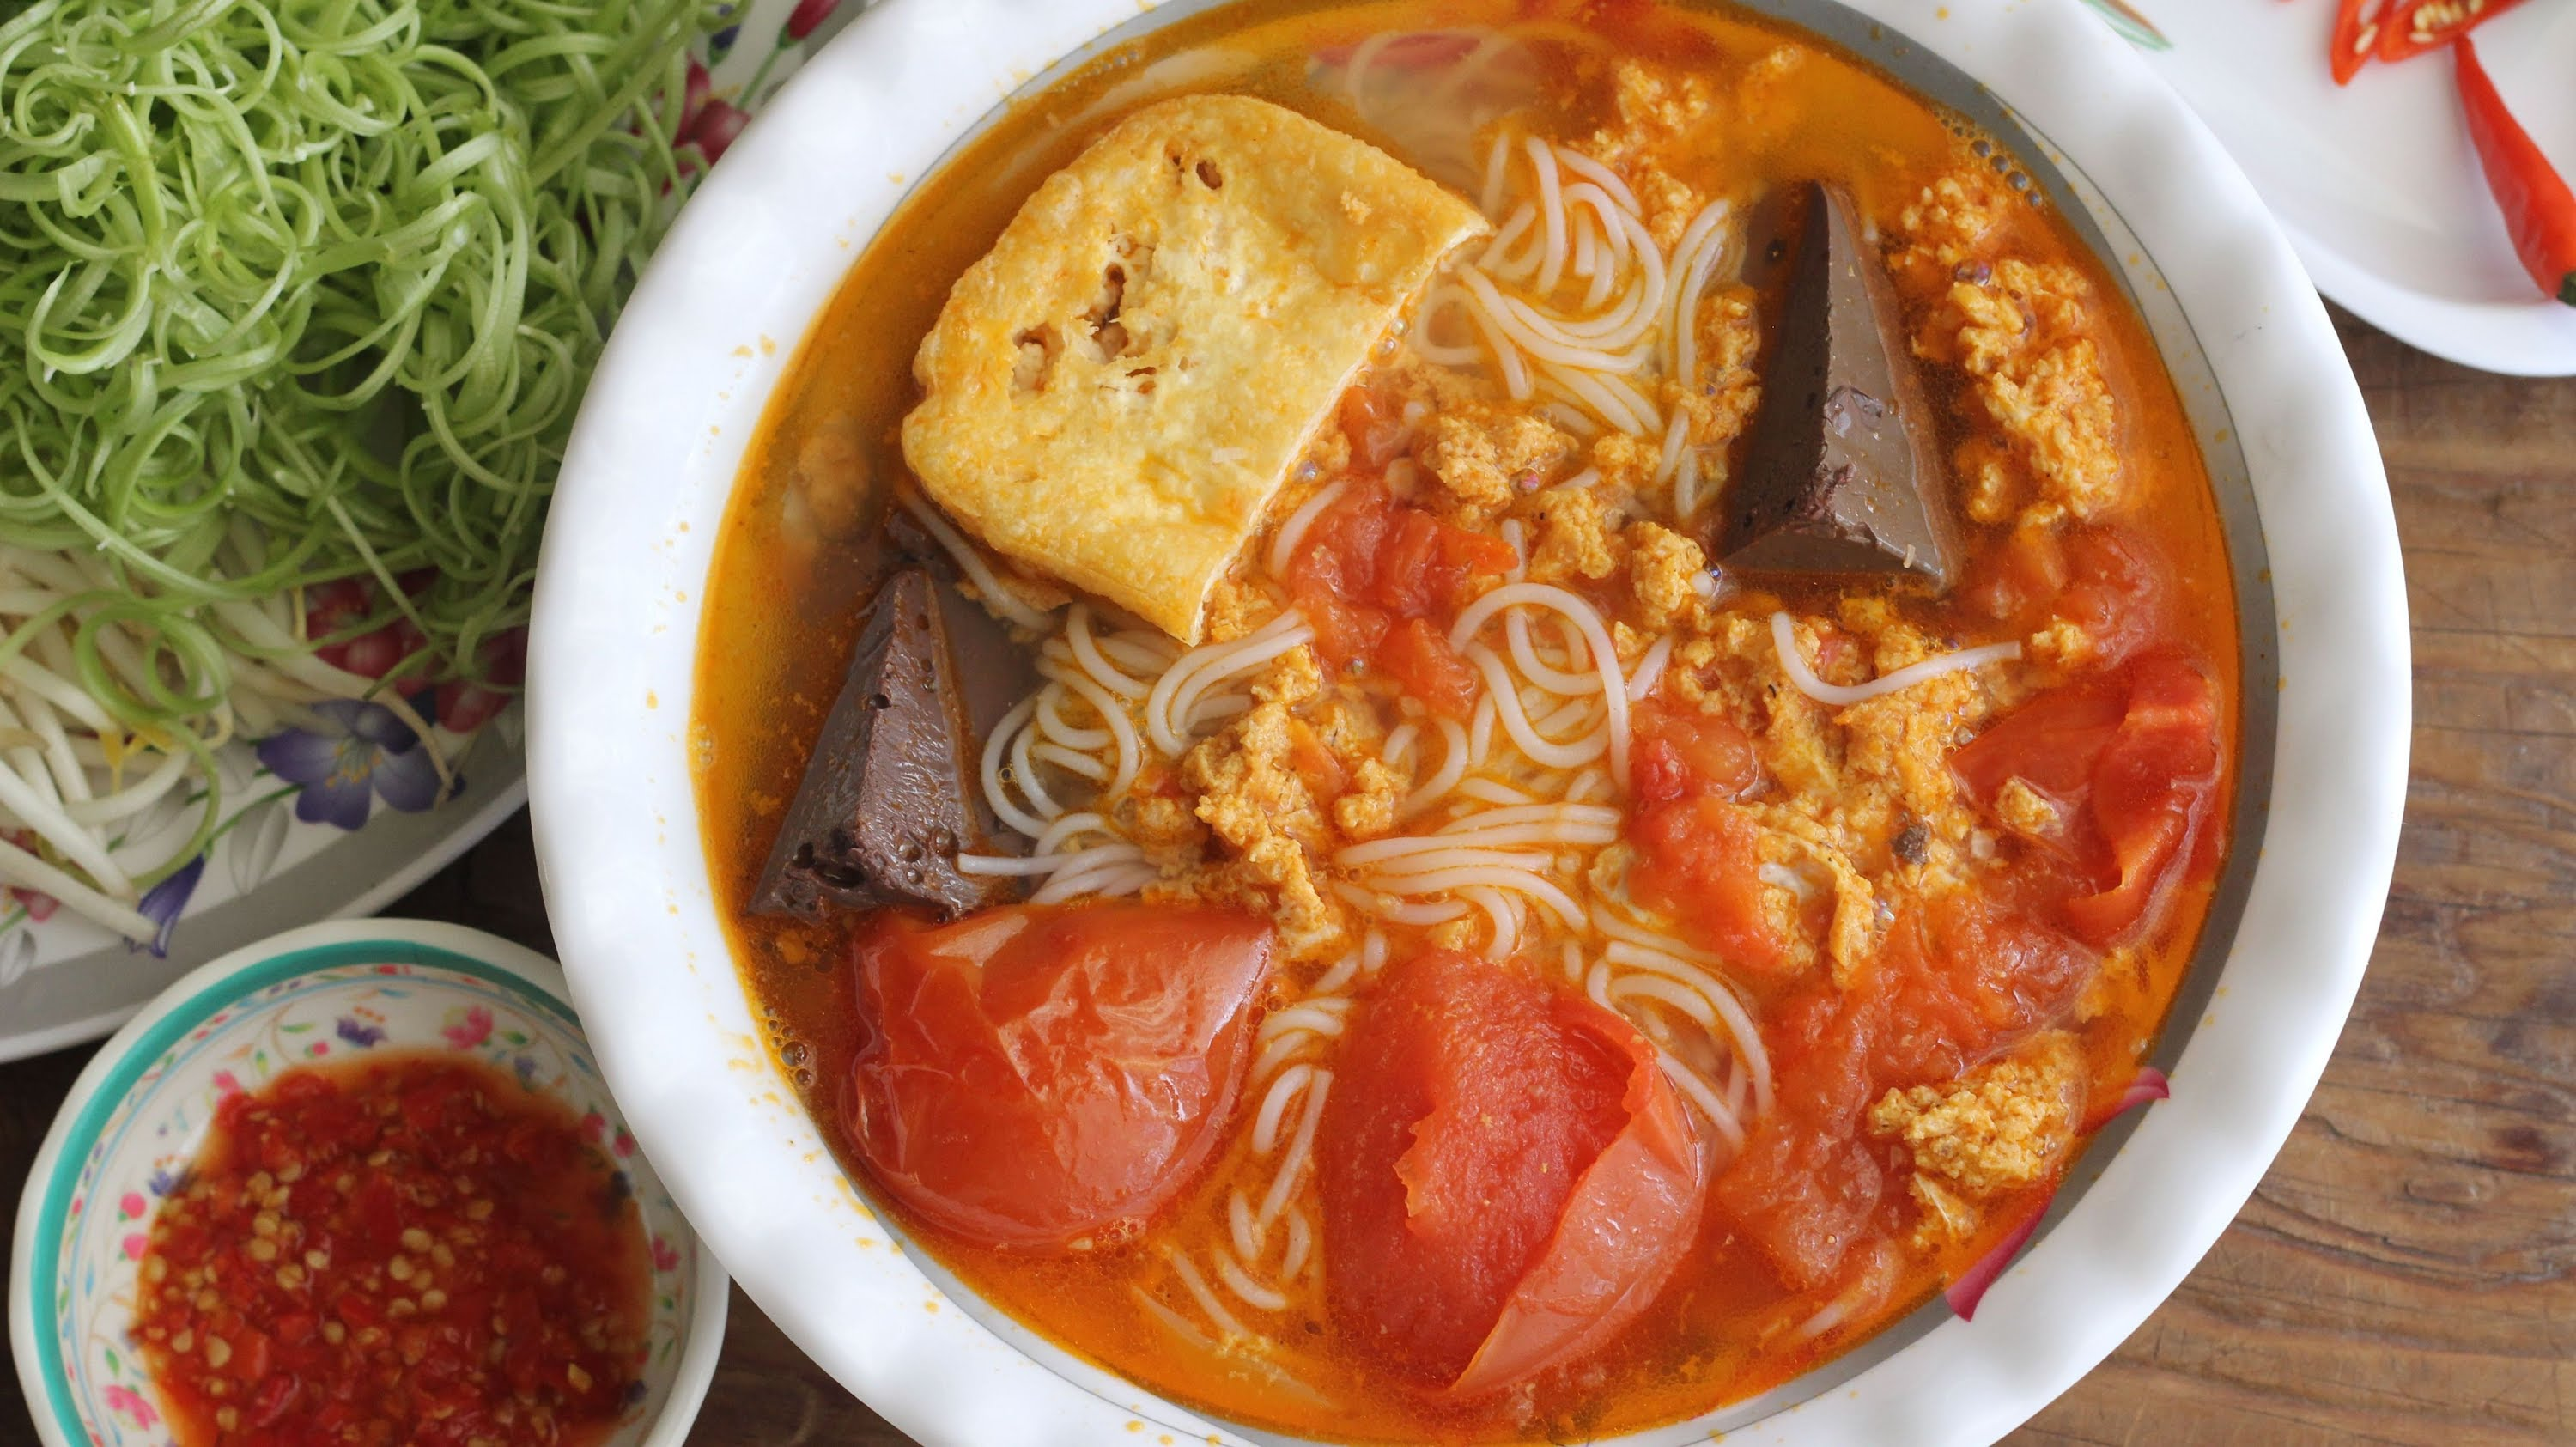rieu: (1925, 203, 2143, 504), (1447, 389, 1713, 614), (1154, 672, 1376, 920), (1776, 672, 1944, 890)
tofu: (915, 140, 1490, 575)
tomato: (1334, 957, 1695, 1397), (856, 906, 1258, 1222), (1771, 916, 2065, 1063)
